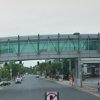Bridge: (5, 28, 92, 69)
